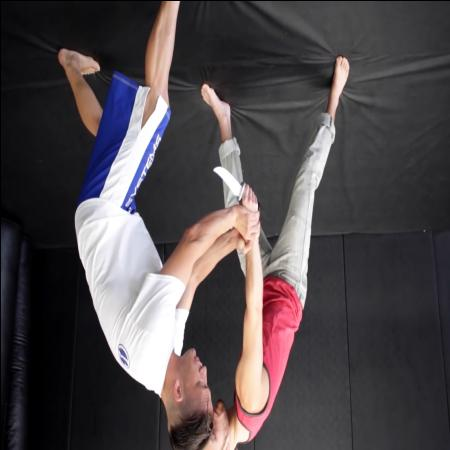long weapon: (209, 162, 262, 215)
